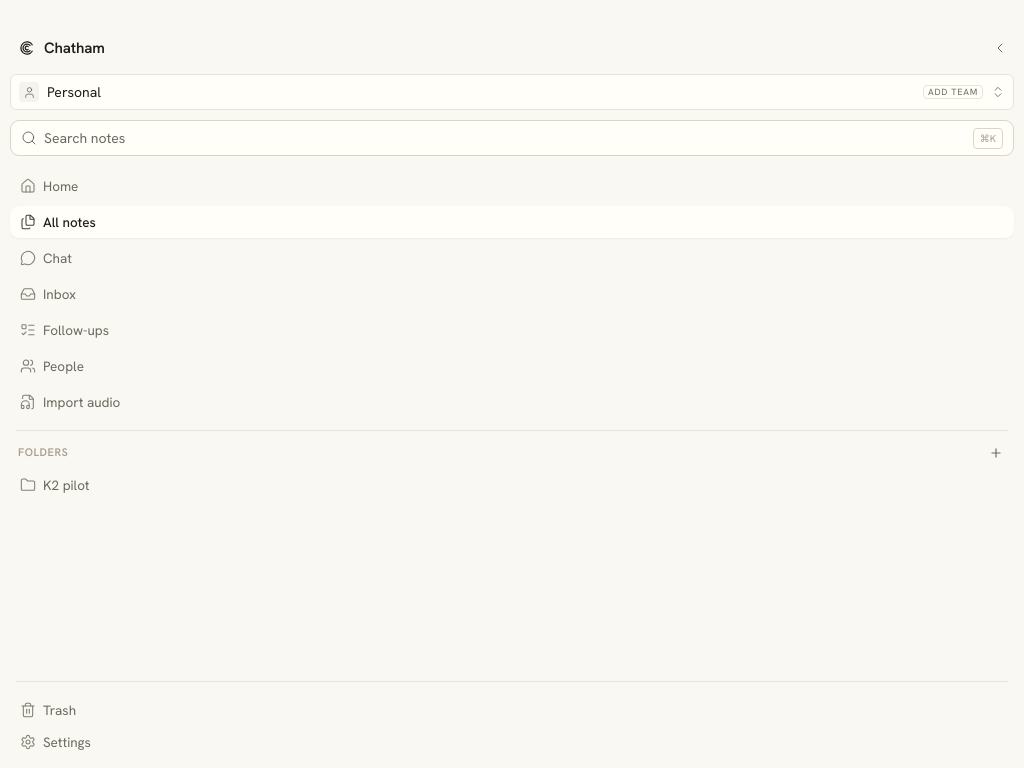
Test: Sidebar folder chat (#110) › confirms rather than assuming zero when the conversations can't be listed
The image size is (1024, 768).
Right-click the link "K2 pilot" at (55, 485), box [20, 476, 90, 494]
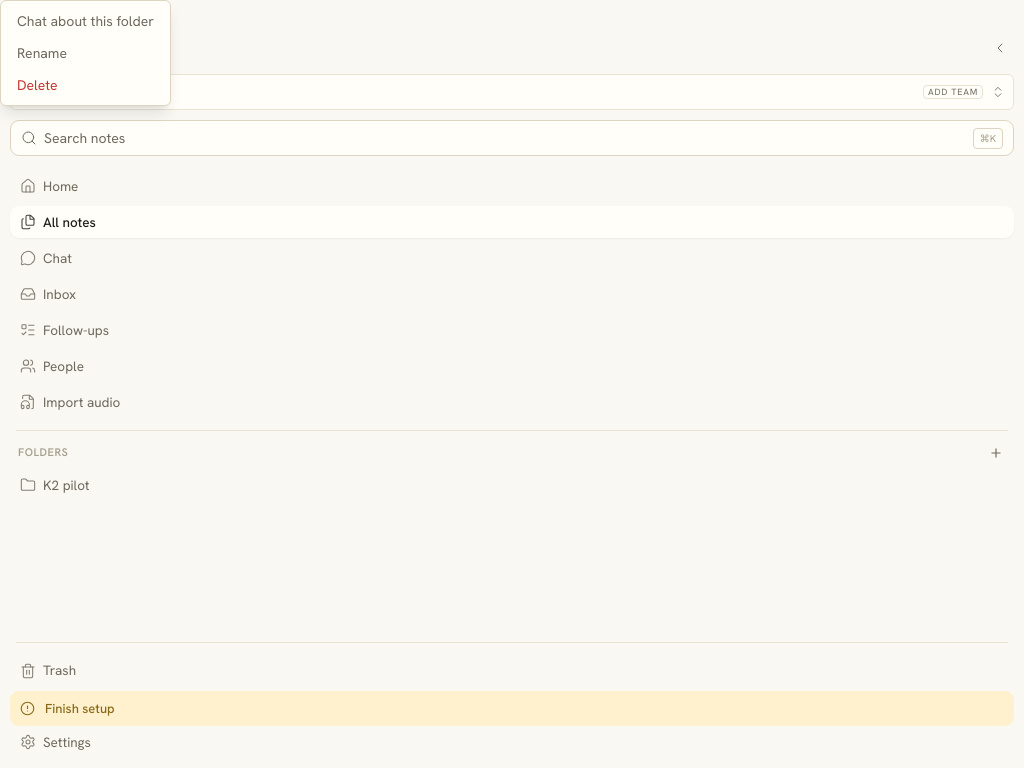
Click the menu item "Delete". click: click(37, 85)
box: [17, 76, 58, 94]
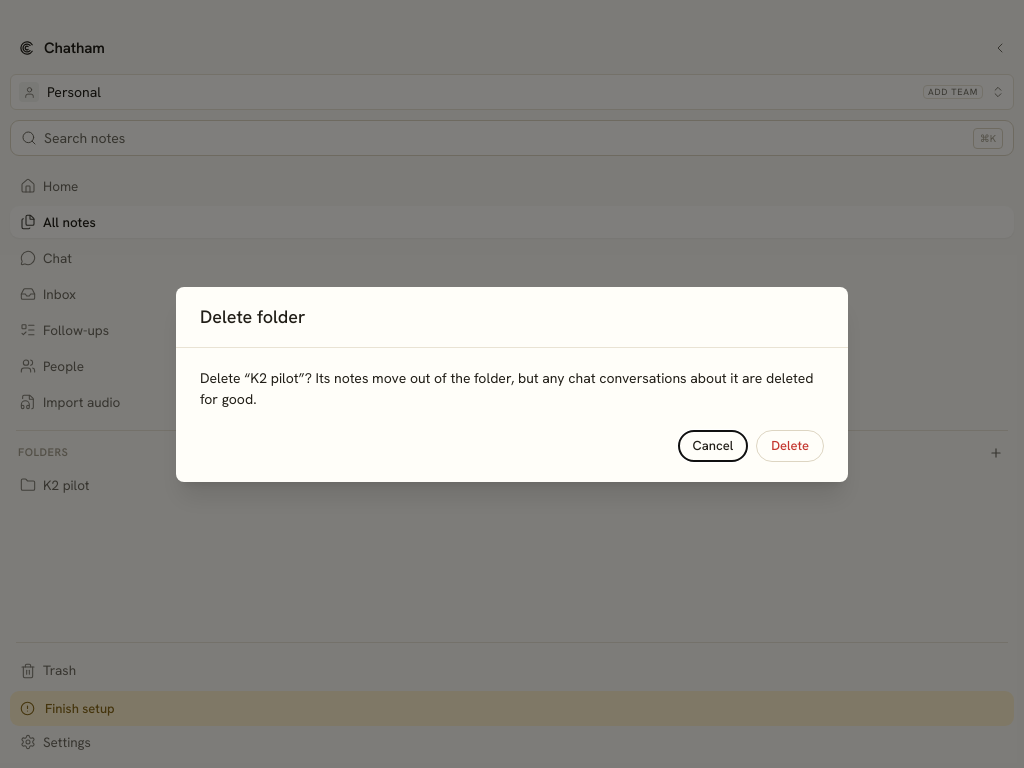
Expected: the text "any chat conversations about it are" is shown, [542, 368, 762, 386]
